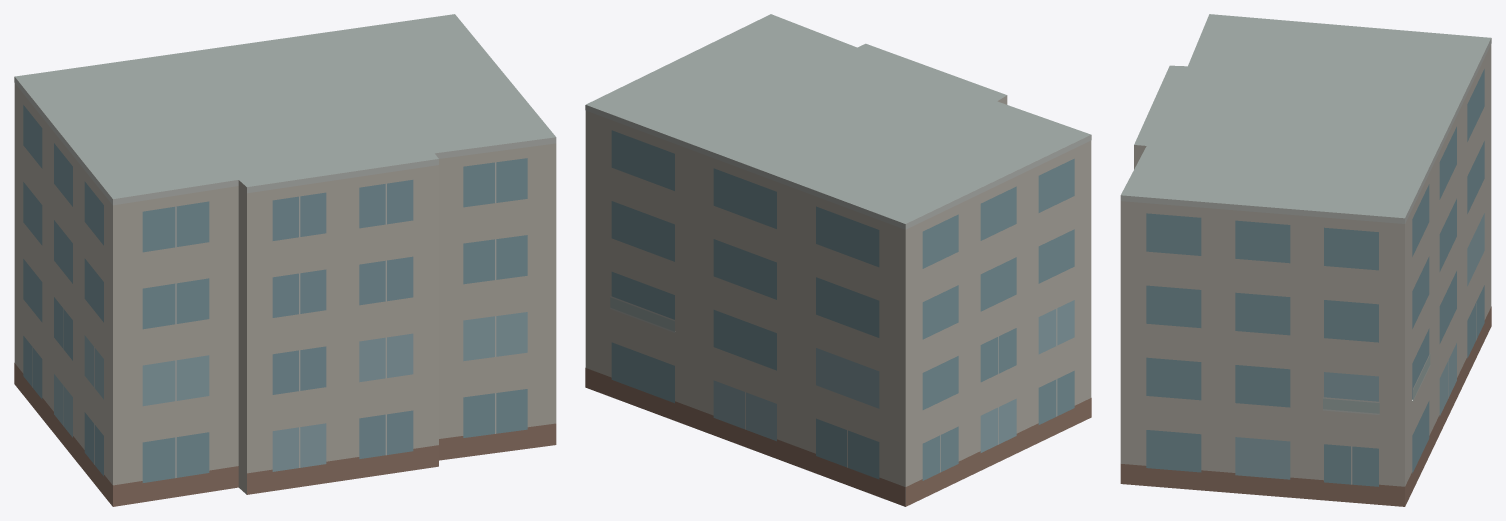
File: survey-upis-32964887.glb
The picture shows the model from 3 angles, left to right: view 1: azimuth 30°, elevation 25°; view 2: azimuth 150°, elevation 25°; view 3: azimuth 270°, elevation 25°; orthographic projection. The views are drawn at different scales.
Parts seen in each view (by area): view 1: survey-upis-32964887.tmp; view 2: survey-upis-32964887.tmp; view 3: survey-upis-32964887.tmp.
Boxes of the visible parts, left/top/right/bottom form: survey-upis-32964887.tmp: left=14, top=14, right=556, bottom=506; survey-upis-32964887.tmp: left=585, top=14, right=1091, bottom=506; survey-upis-32964887.tmp: left=1120, top=14, right=1491, bottom=506.
Size of the model in its own units: 18.53 by 12.2 by 14.22.
